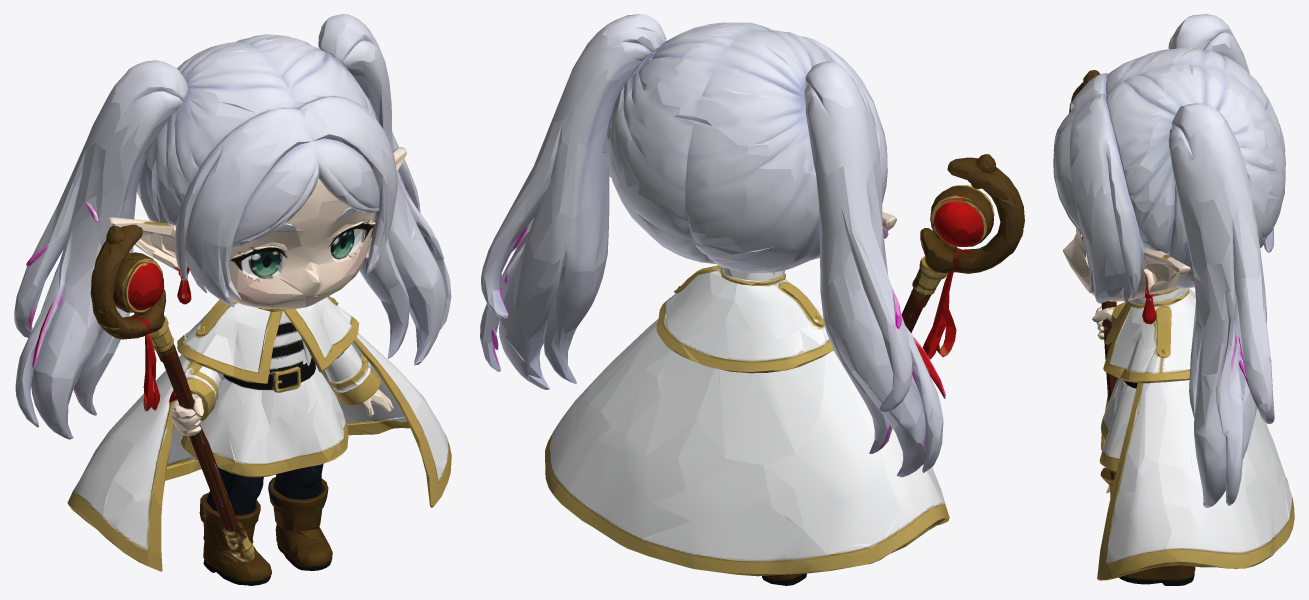
The model's file is Frieran.glb.
3 views of the same model, side by side, from view 1: azimuth 30°, elevation 25°; view 2: azimuth 150°, elevation 25°; view 3: azimuth 270°, elevation 25° (orthographic). The views are drawn at different scales.
Visible parts, largest first — view 1: Mesh_0; view 2: Mesh_0; view 3: Mesh_0.
Boxes of the visible parts, bbox=[...] form: Mesh_0: bbox=[14, 14, 451, 585]; Mesh_0: bbox=[480, 14, 1024, 585]; Mesh_0: bbox=[1053, 14, 1294, 585].
Bounding box in the file's own units: 1.7 × 1.9 × 0.8326.
Materials: 1 (1 with a texture image).
